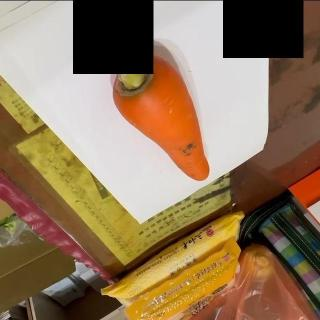carrot: (112, 54, 209, 181)
